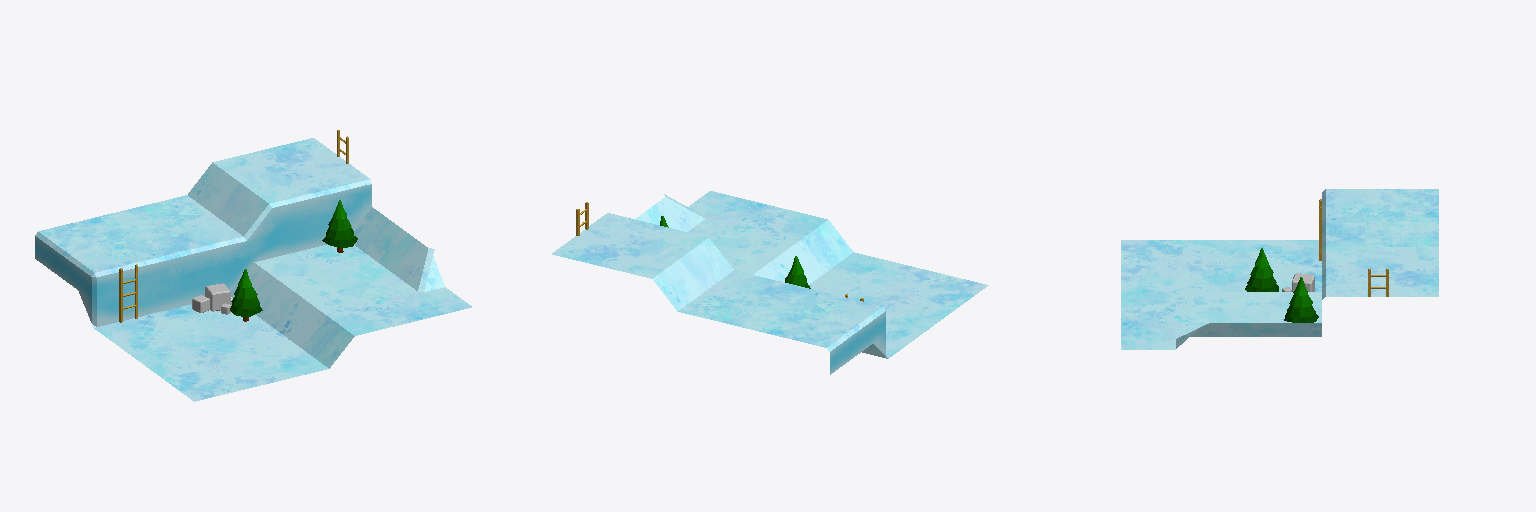
3 renders of one model, left to right at view 1: azimuth 30°, elevation 25°; view 2: azimuth 150°, elevation 25°; view 3: azimuth 270°, elevation 25°, orthographic.
Visible parts, largest first — view 1: Cube.035, Arbol.005, Arbol.006, Hielo.004; view 2: Cube.035; view 3: Cube.035, Arbol.005, Arbol.006.
Part boxes in pixels (x1,y1,x2,y2): Cube.035: (35,138,471,401); Arbol.005: (322,200,357,252); Arbol.006: (230,269,262,321); Hielo.004: (192,283,231,314); Cube.035: (552,191,988,374); Cube.035: (1121,189,1438,349); Arbol.005: (1284,277,1318,322); Arbol.006: (1245,248,1278,291).
Bounding box in the file's own units: 100 × 36 × 97.99.
2 materials, 1 textured.